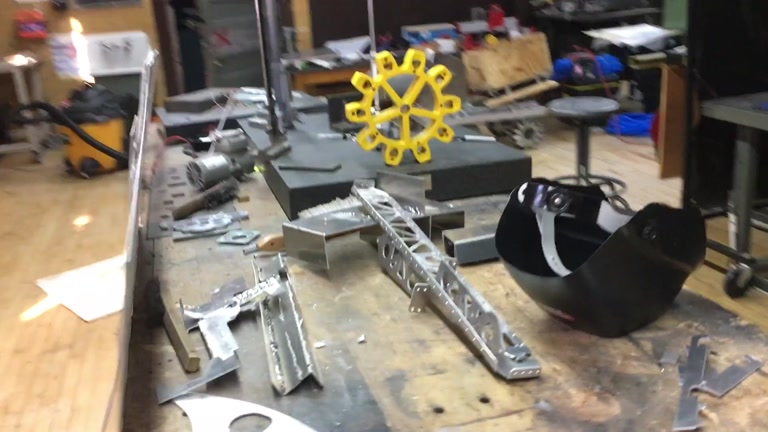gear: (346, 50, 462, 166)
